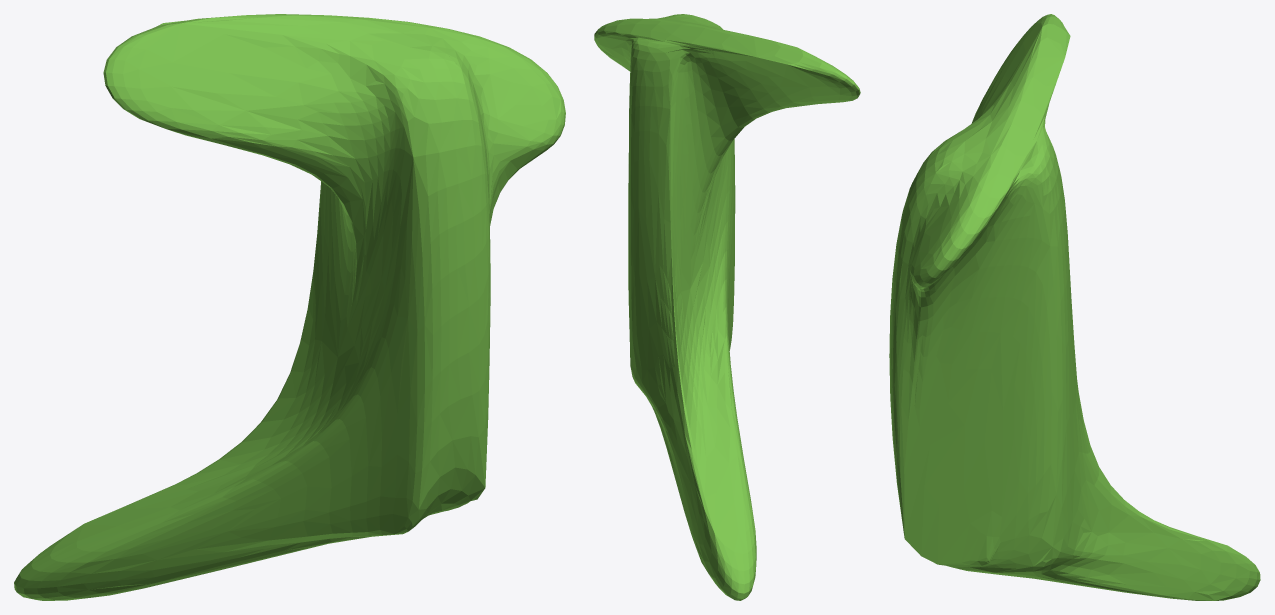
3 renders of one model, left to right at view 1: azimuth 30°, elevation 25°; view 2: azimuth 150°, elevation 25°; view 3: azimuth 270°, elevation 25°, orthographic. The views are drawn at different scales.
Visible parts, largest first — view 1: 522_Cube.2108; view 2: 522_Cube.2108; view 3: 522_Cube.2108.
Boxes of the visible parts, box(x1,y1,x2,y2) form: 522_Cube.2108: box(14, 14, 565, 600); 522_Cube.2108: box(594, 14, 860, 600); 522_Cube.2108: box(889, 14, 1260, 600).
Bounding box in the file's own units: 10.97 × 16.83 × 9.79.
